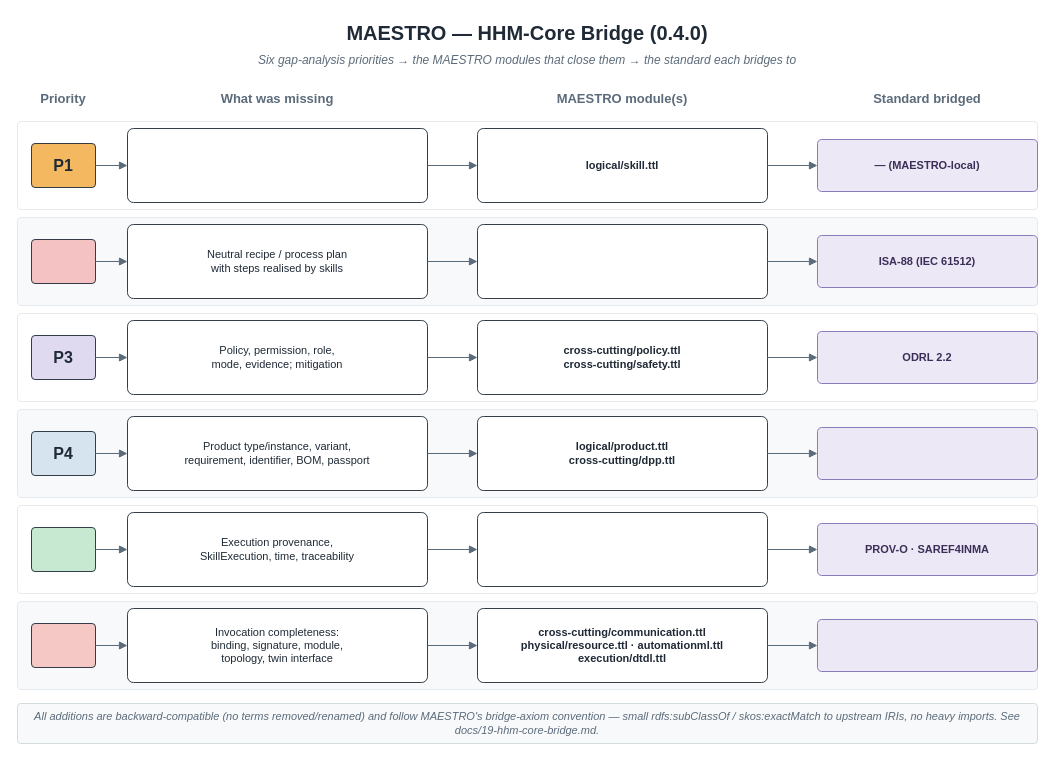
Some shapes in this 1055 by 761 pixel diagram are drawn without their labels. The centre of each missing label's shape, as x and y in pixels:
"CAEX (IEC 62714) · DTDL" belongs at point (927, 645).
"DPP (ESPR) / ECLASS" belongs at point (927, 453).
"logical/recipe.ttl" belongs at point (622, 261).
"P2" belongs at point (63, 261).
"P5" belongs at point (63, 549).
"P6" belongs at point (63, 645).
"runtime/runtime.ttl execution/prov.ttl · execution/trace.ttl" belongs at point (622, 549).
"Skill orchestration: sub-skill links, control-flow, data bindings, typed params" belongs at point (277, 165).
